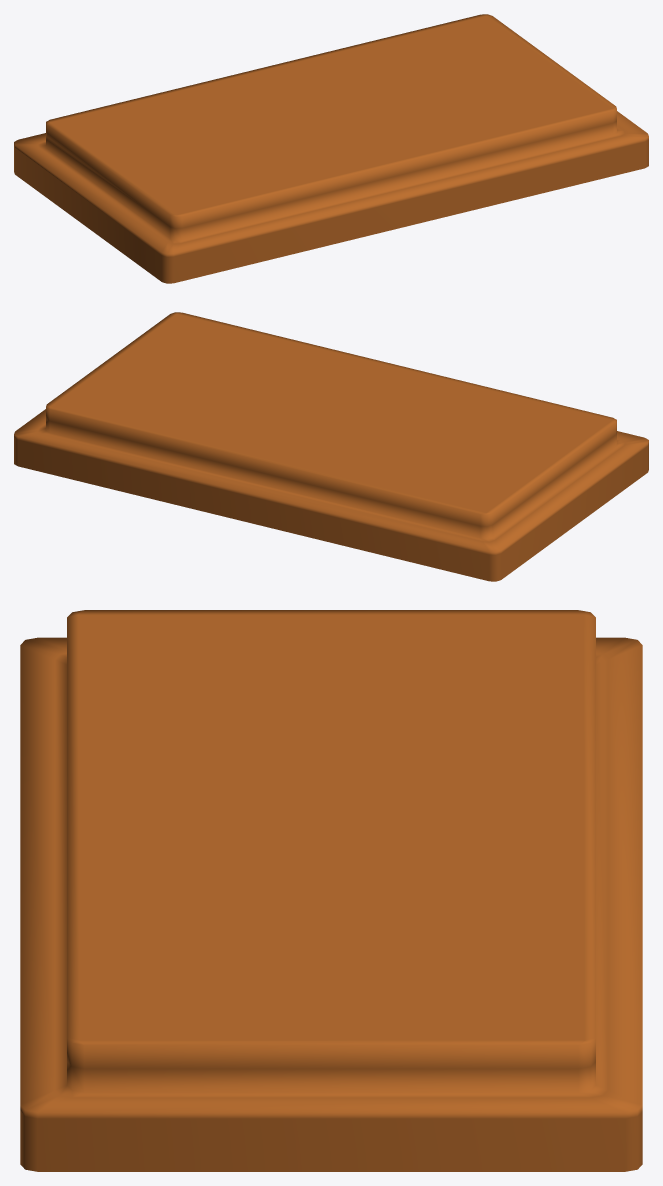
The model's file is Lamp.fbx.
The picture shows the model from 3 angles, top to bottom: view 1: azimuth 30°, elevation 25°; view 2: azimuth 150°, elevation 25°; view 3: azimuth 270°, elevation 25°; orthographic projection. The views are drawn at different scales.
Visible parts, largest first — view 1: Lamp; view 2: Lamp; view 3: Lamp.
Boxes of the visible parts, x1,y1,x2,y2 form: Lamp: (14, 14, 648, 283); Lamp: (14, 312, 648, 581); Lamp: (20, 610, 642, 1171).
Bounding box in the file's own units: 6 × 0.6299 × 3.33.
